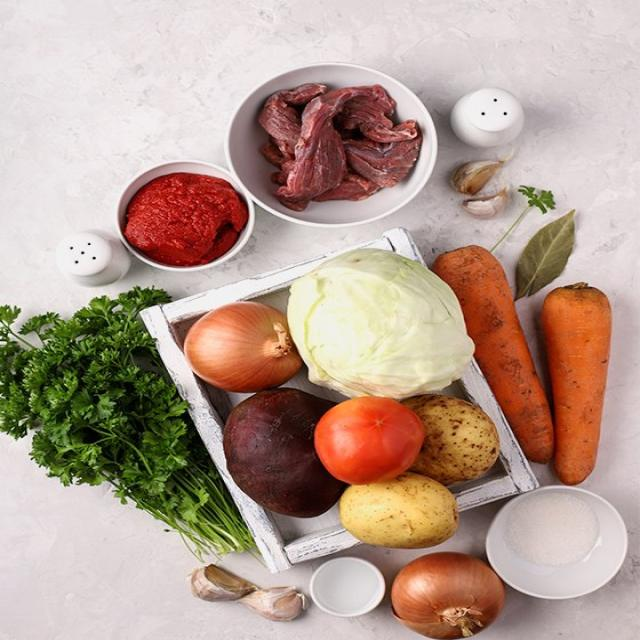beet: (220, 392, 338, 519)
cabbage: (299, 255, 477, 389)
carrot: (444, 250, 566, 461), (547, 287, 613, 478)
onion: (179, 306, 309, 393), (403, 559, 497, 635)
potato: (338, 479, 456, 547), (431, 405, 492, 476)
tomato: (313, 397, 424, 481)
